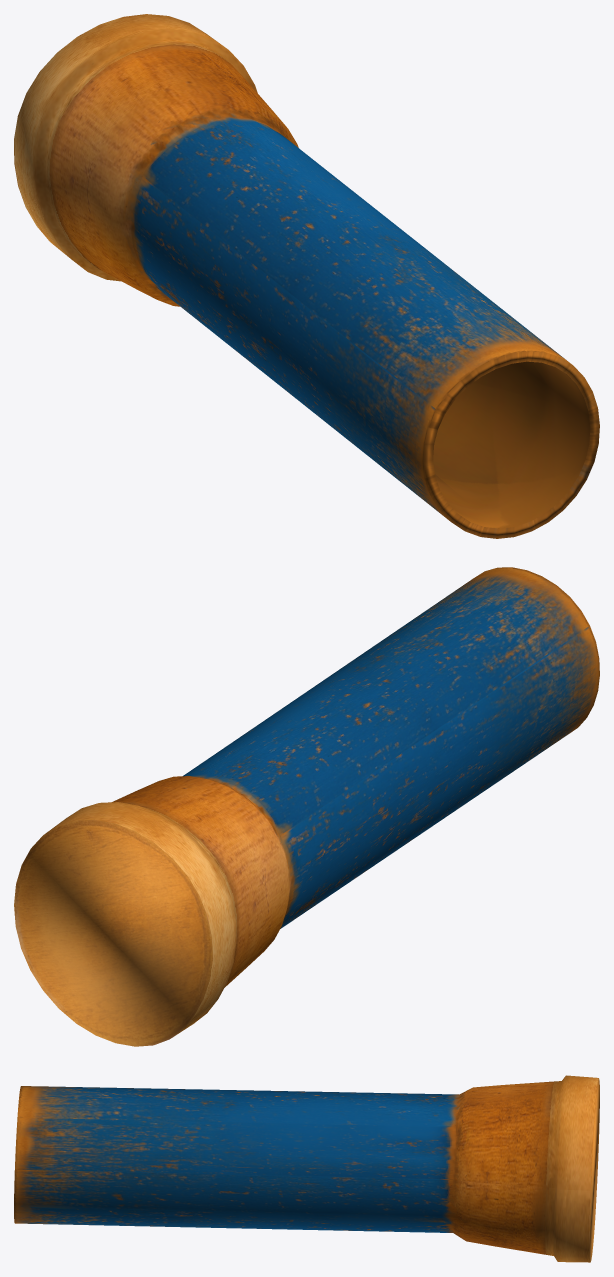
File: tambu.glb
3 renders of one model, top to bottom at view 1: azimuth 30°, elevation 25°; view 2: azimuth 150°, elevation 25°; view 3: azimuth 270°, elevation 25°, orthographic. The views are drawn at different scales.
Parts seen in each view (by area): view 1: Cylinder.004; view 2: Cylinder.004; view 3: Cylinder.004.
Part boxes in pixels (bbox=[...]): Cylinder.004: bbox=[14, 14, 599, 538]; Cylinder.004: bbox=[14, 567, 599, 1046]; Cylinder.004: bbox=[14, 1075, 599, 1262].
Size of the model in its own units: 1.92 by 1.96 by 6.16.
1 material, 1 textured.
